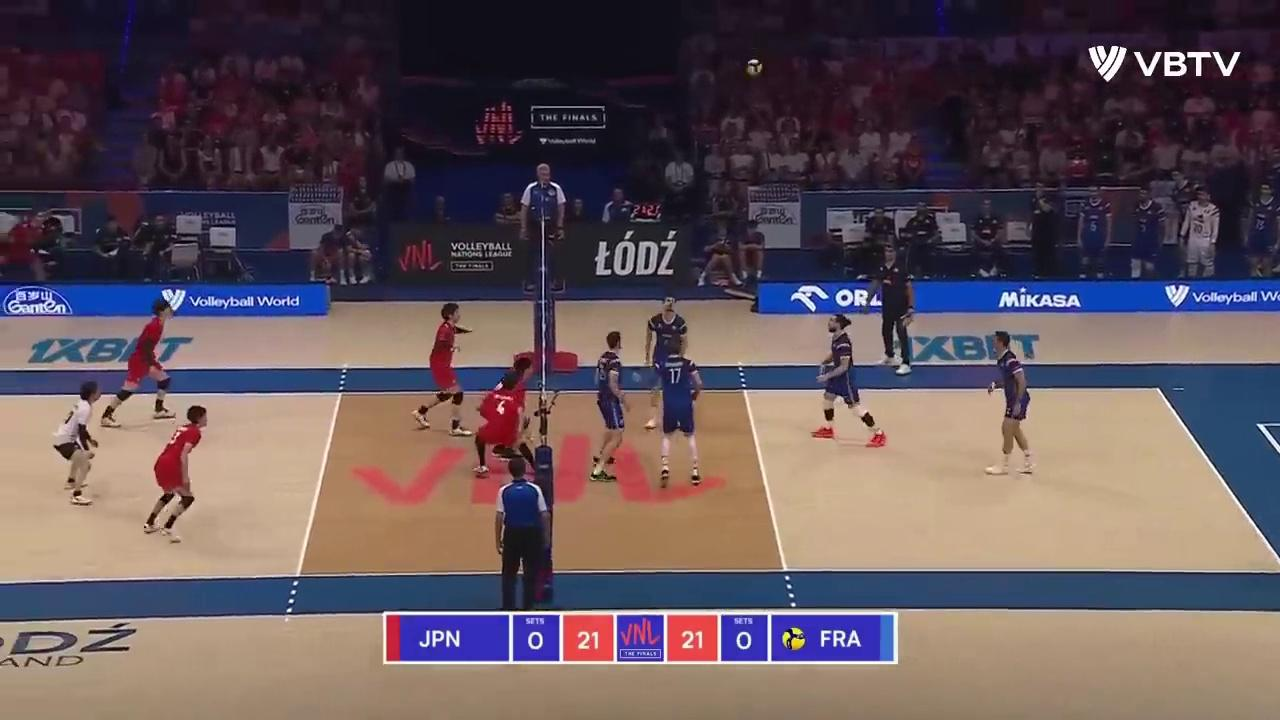ball: (745, 60, 764, 76)
